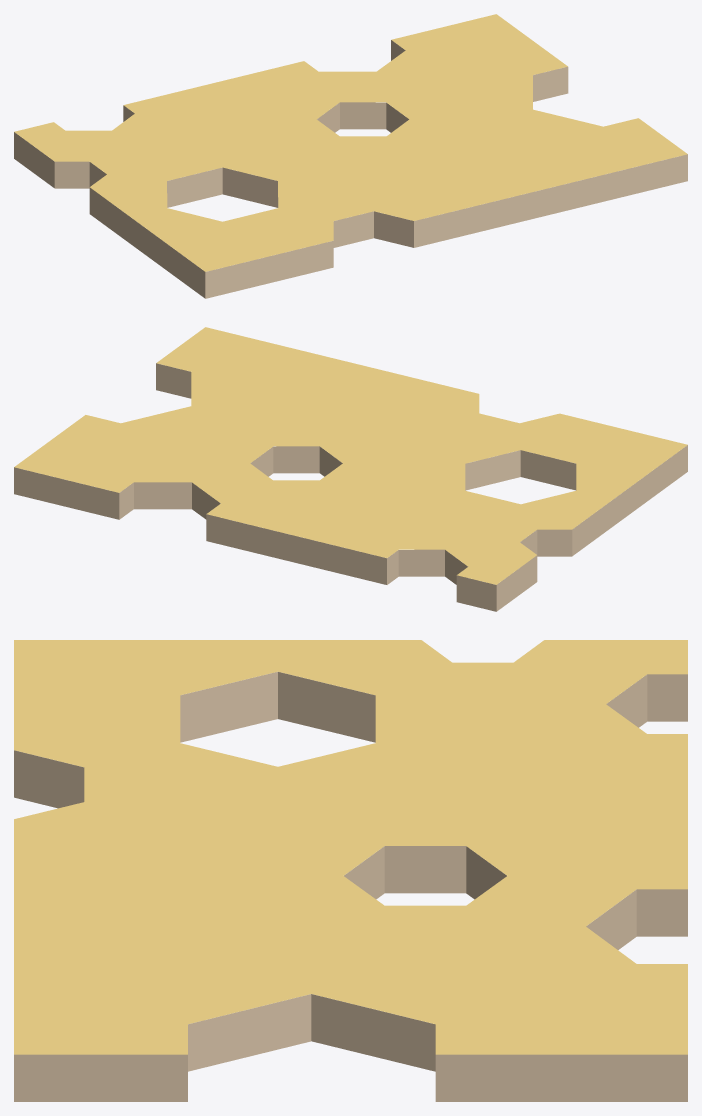
The model's file is cheese-cut.glb.
3 renders of one model, top to bottom at view 1: azimuth 30°, elevation 25°; view 2: azimuth 150°, elevation 25°; view 3: azimuth 270°, elevation 25°, orthographic. The views are drawn at different scales.
Visible parts, largest first — view 1: cheeseCut; view 2: cheeseCut; view 3: cheeseCut.
Part boxes in pixels (x1,y1,x2,y2): cheeseCut: (14,14,687,298); cheeseCut: (14,327,687,611); cheeseCut: (14,640,687,1101).
Size of the model in its own units: 0.384 by 0.0205 by 0.2639.
